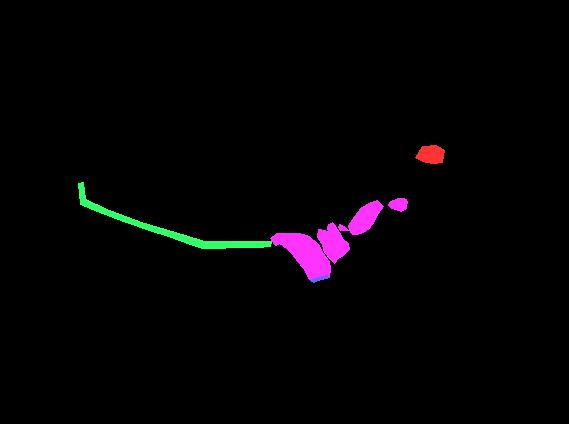Broken part: (78, 182, 271, 248)
Dent: (270, 233, 330, 281), (317, 222, 349, 263), (348, 200, 383, 234), (388, 198, 407, 211), (338, 224, 348, 230)
Missing part: (415, 145, 444, 163)
Scratch: (310, 274, 328, 282)
